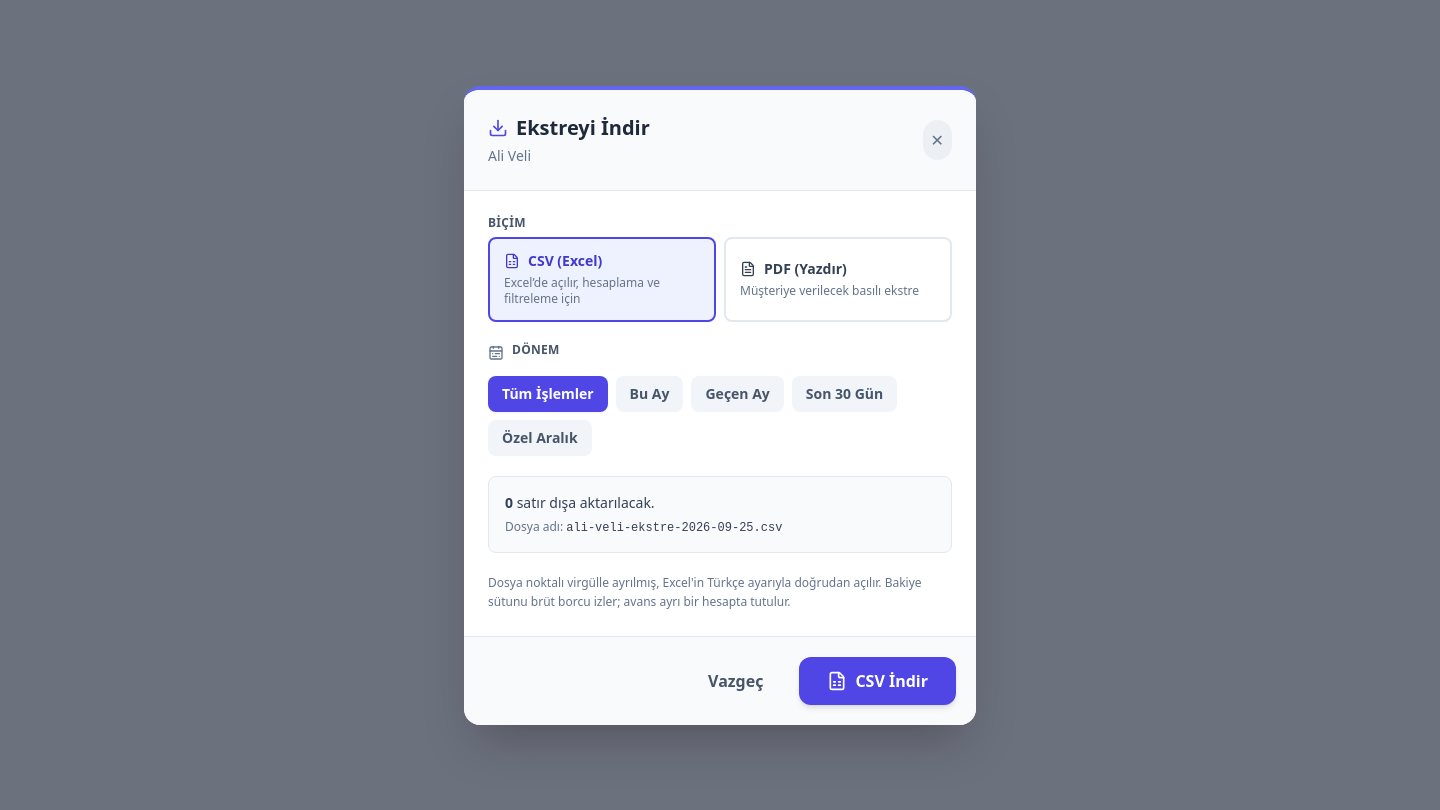
StatementExportModal › bos ekstrede indirme yapilmaz, uyari toast gosterilir
Click the button "CSV İndir": click(878, 680) [799,656,956,704]
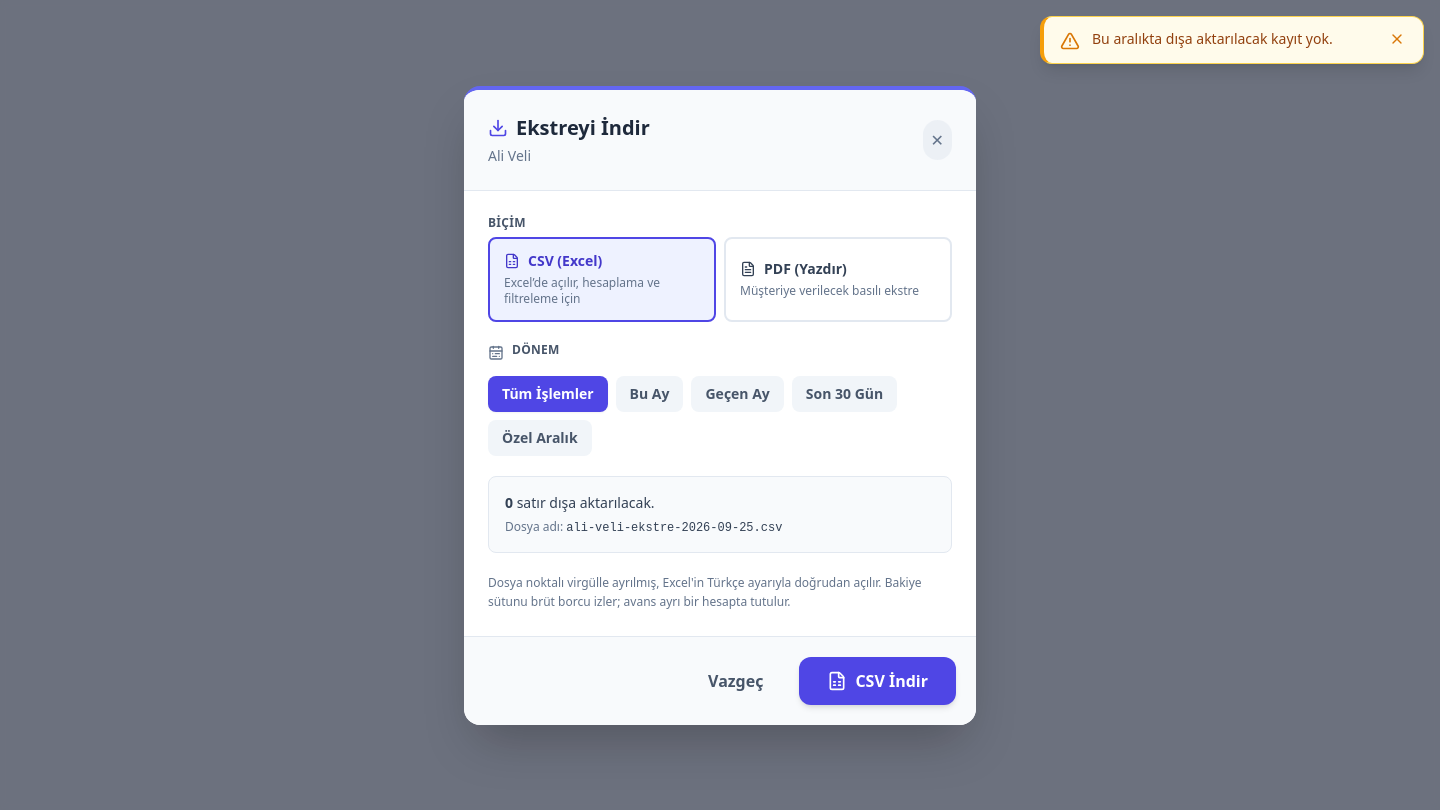
Check: the text "Bu aralıkta dışa aktarılacak kayıt yok." is shown, box [1092,29,1375,49]
